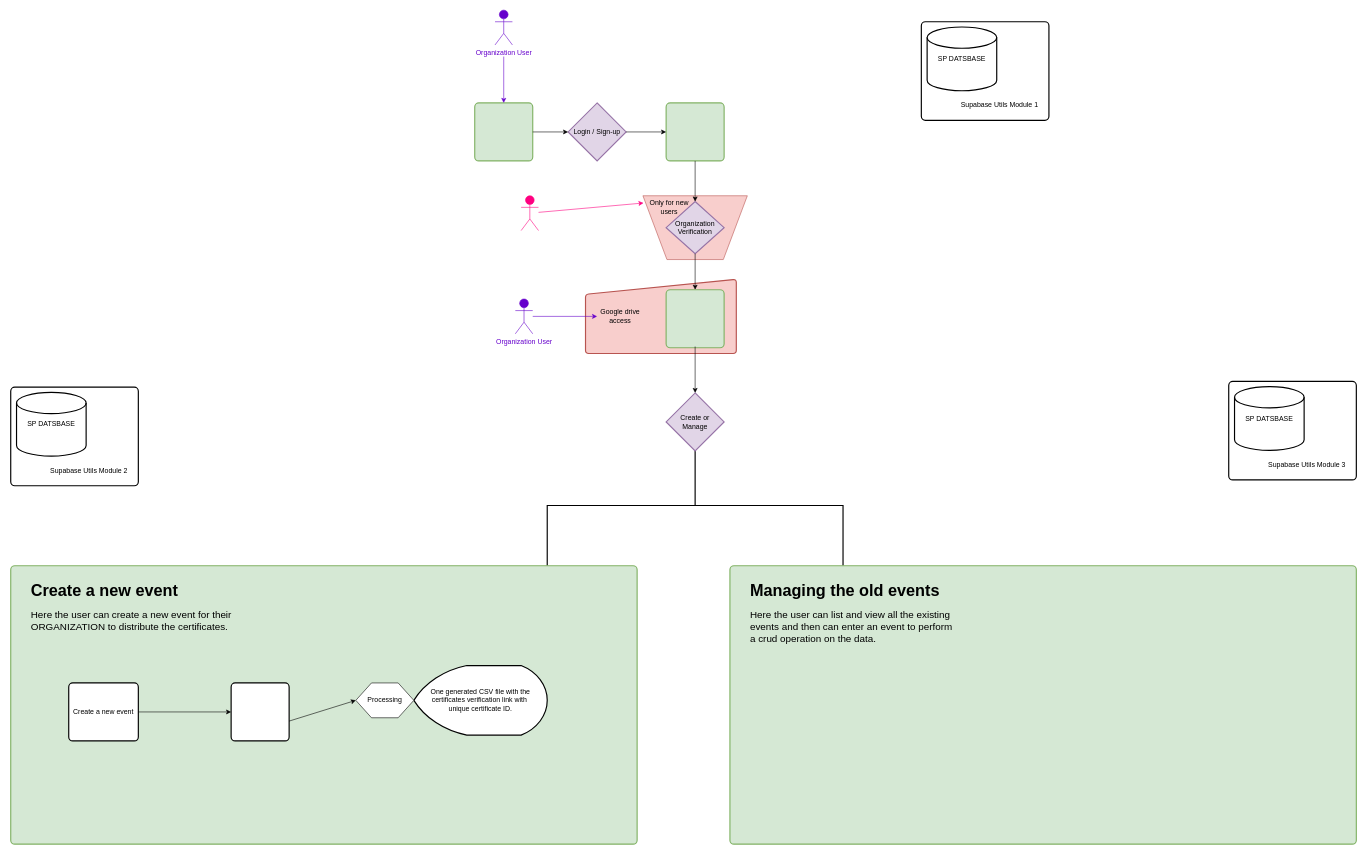
The diagram is 1366 pixels wide and 855 high, and some of its shapes have lost their labels. The shapes that lost their labels are listed below. From the top down, each one's centre as x and y in pixels, then its label:
At (503,131): "Landing Page".
At (694,131): "Auth Page".
At (530,213): "Admin".
At (694,318): "Dashboard".
At (259,711): "Upload all certificates in BULK".
